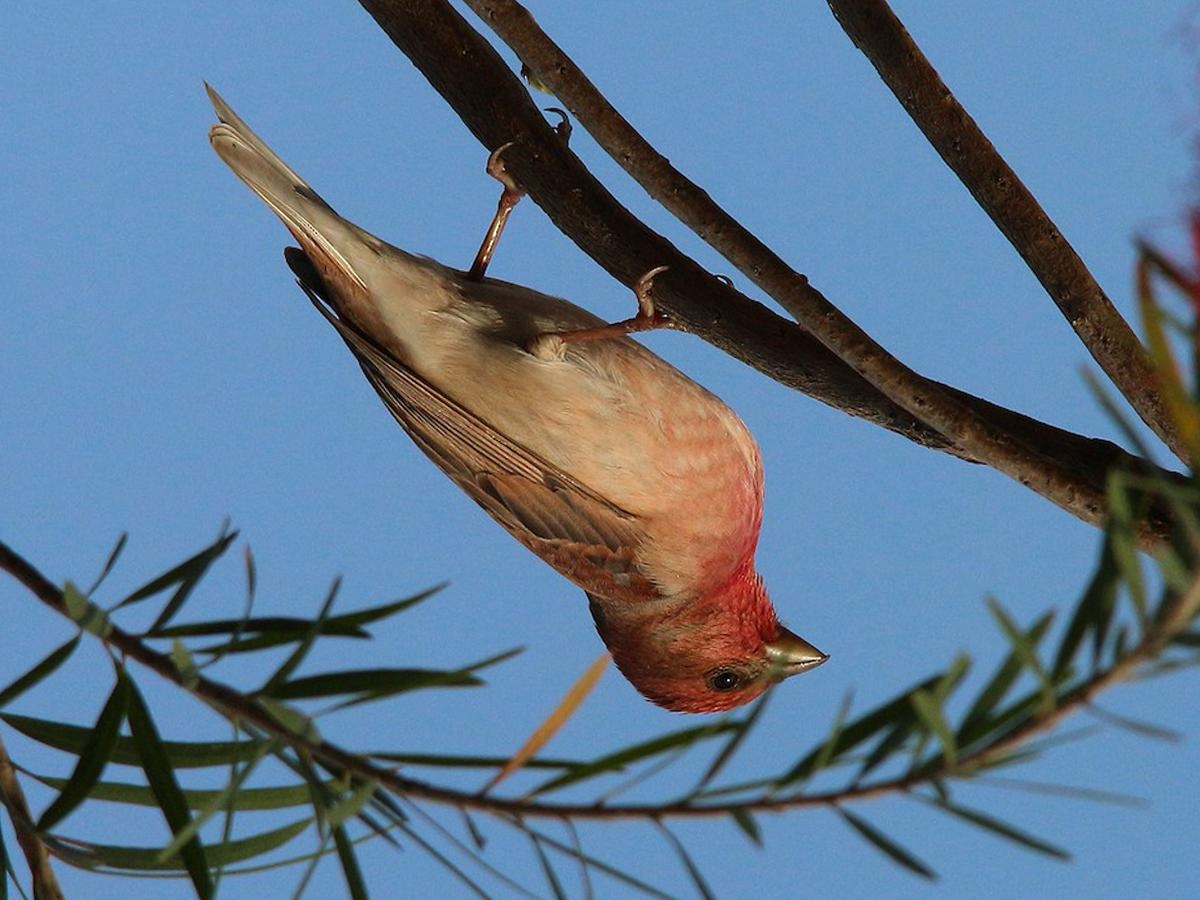rosefinch: (289, 108, 849, 706)
